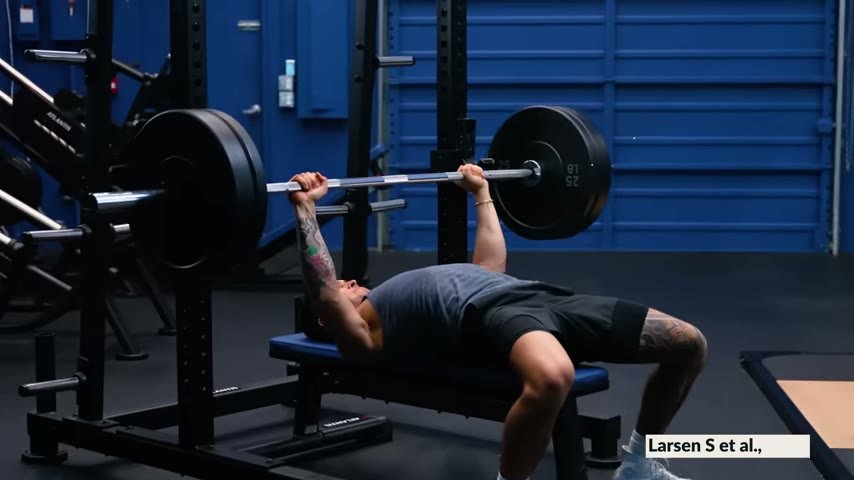barbell_plate_side: (71, 9, 182, 323), (472, 87, 617, 249)
